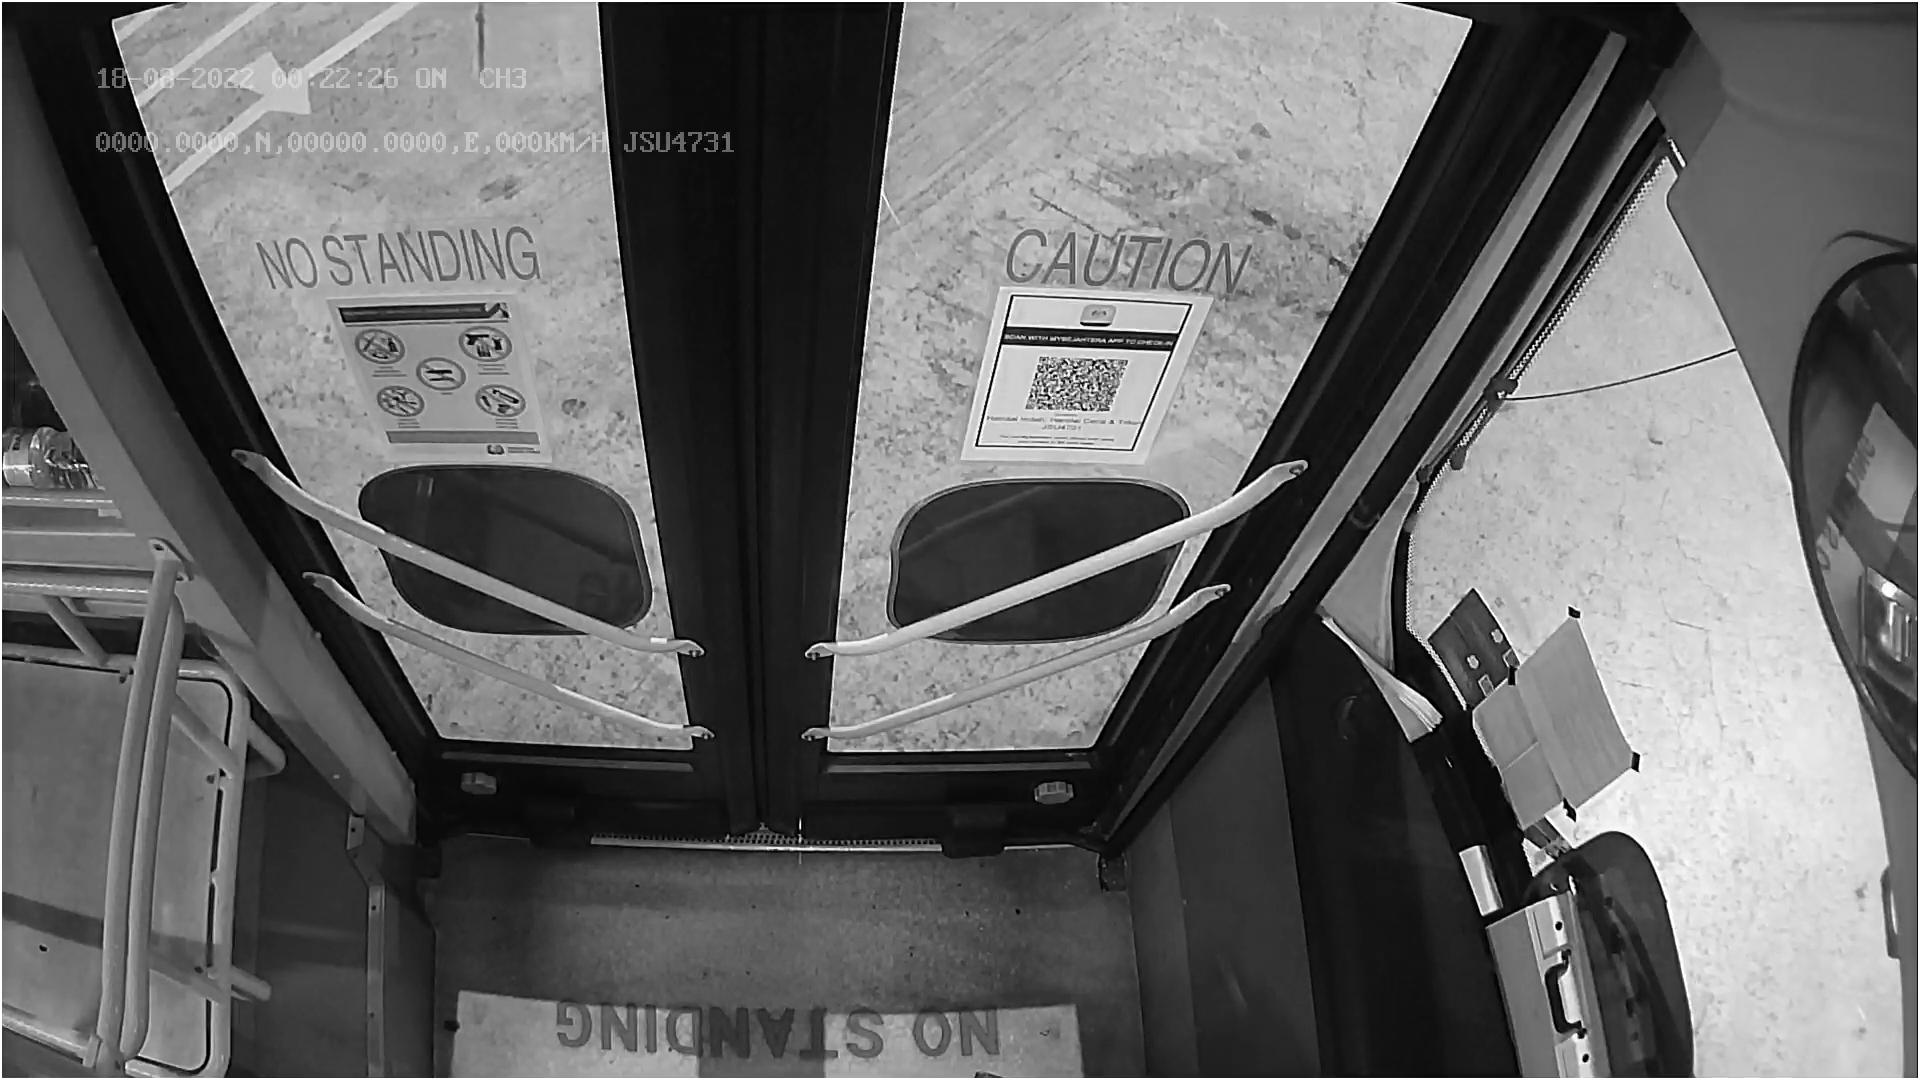close: (131, 0, 1447, 157)
